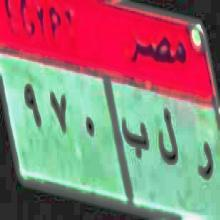0: (80, 107, 104, 150)
7: (47, 88, 68, 134)
9: (19, 76, 42, 132)
baa: (120, 118, 151, 159)
laam: (156, 112, 180, 174)
raa: (194, 137, 218, 191)
